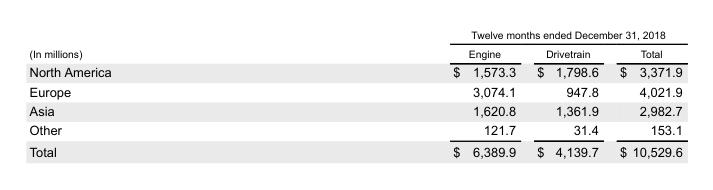table: (28, 28, 681, 158)
table column: (28, 28, 281, 158), (281, 28, 525, 158), (525, 28, 608, 158), (608, 28, 681, 158)
table column header: (28, 28, 681, 61)
table row: (28, 61, 681, 81), (28, 100, 681, 120), (28, 120, 681, 140), (28, 81, 681, 100), (28, 43, 681, 61), (28, 140, 681, 158), (28, 28, 681, 43)
table spanning cell: (28, 28, 281, 61), (281, 28, 681, 43)
